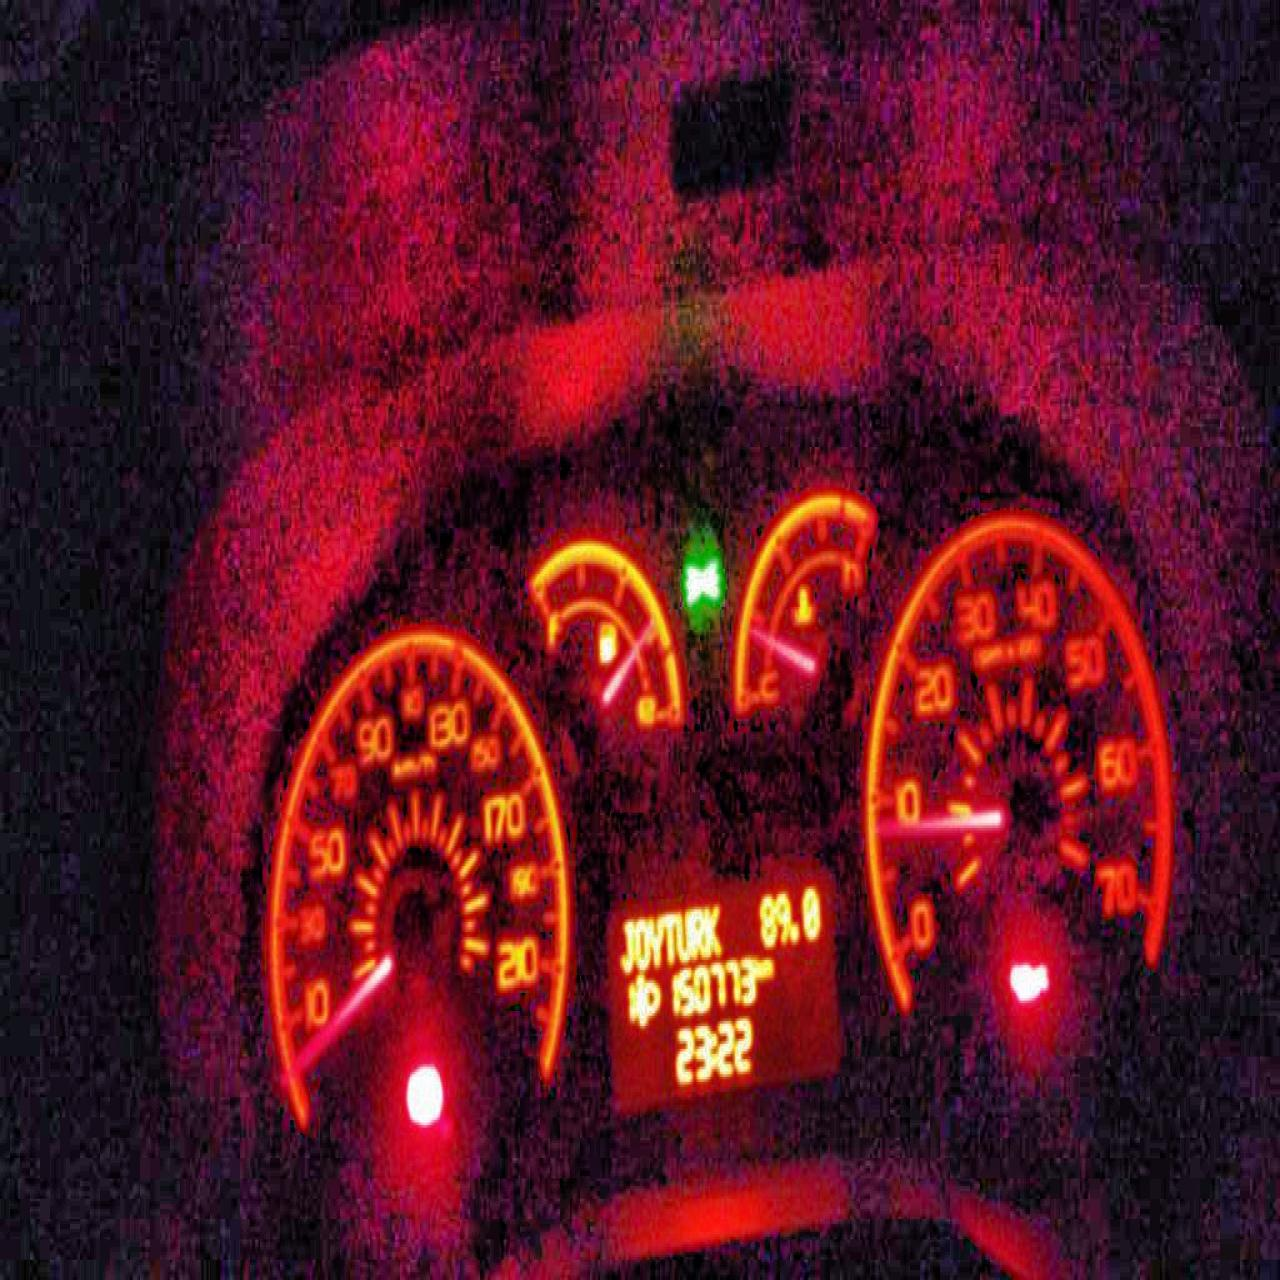-: (790, 917, 799, 945)
0: (799, 881, 821, 940), (693, 960, 708, 1013)
1: (669, 967, 679, 1019), (625, 978, 635, 1023)
2: (673, 1023, 694, 1084), (734, 1014, 753, 1075), (716, 1016, 733, 1077)
3: (694, 1021, 710, 1082), (738, 953, 754, 1003)
5: (679, 965, 693, 1019)
7: (710, 960, 726, 1006), (726, 955, 738, 1006)
8: (756, 891, 775, 949)
9: (775, 886, 790, 945)
X: (703, 899, 721, 958), (618, 914, 633, 975), (647, 910, 662, 968), (688, 904, 703, 960), (674, 906, 688, 962), (633, 914, 647, 971), (662, 907, 675, 965), (760, 958, 774, 978), (710, 1026, 716, 1069), (754, 952, 760, 978)
odometer: (604, 863, 842, 1119)
